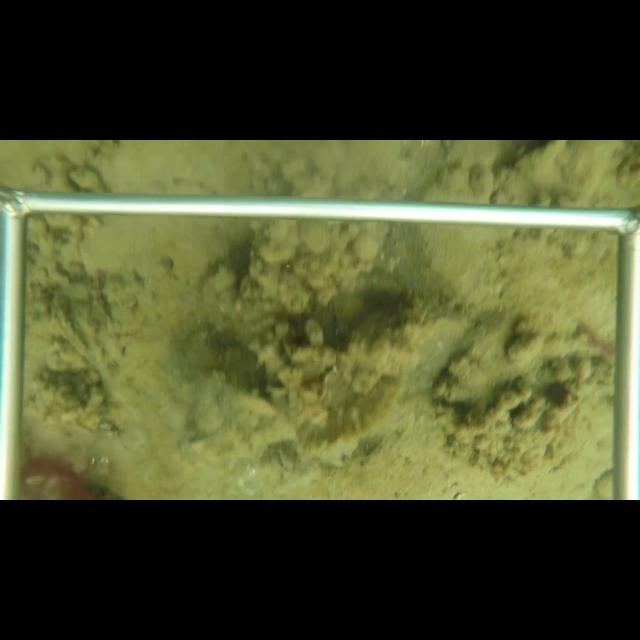Oyster-Closed: (54, 293, 97, 370)
